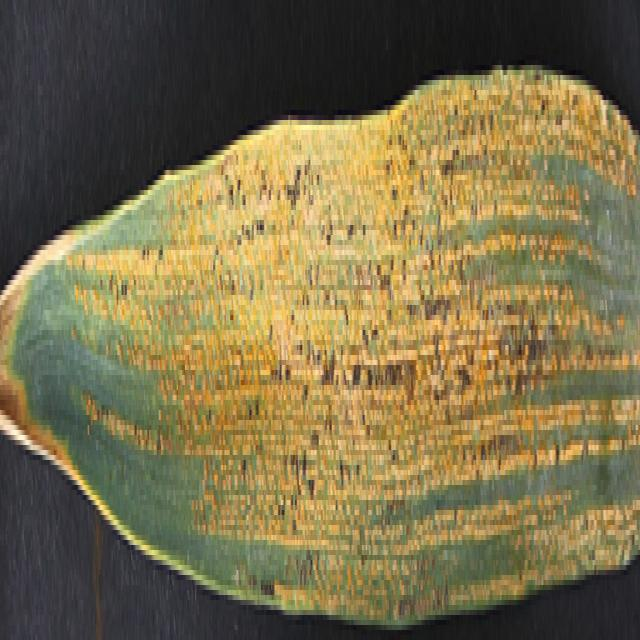leaf rust: (77, 95, 638, 605)
